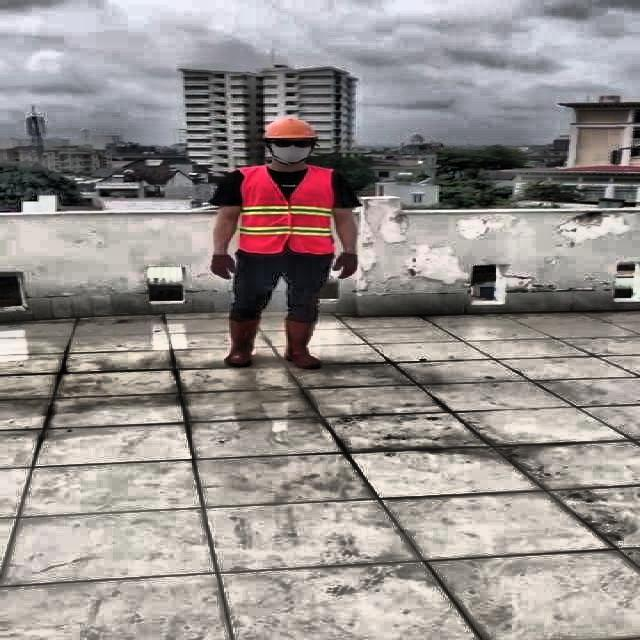safety_helmet: (265, 118, 320, 144)
safety_jacket: (240, 166, 334, 254)
